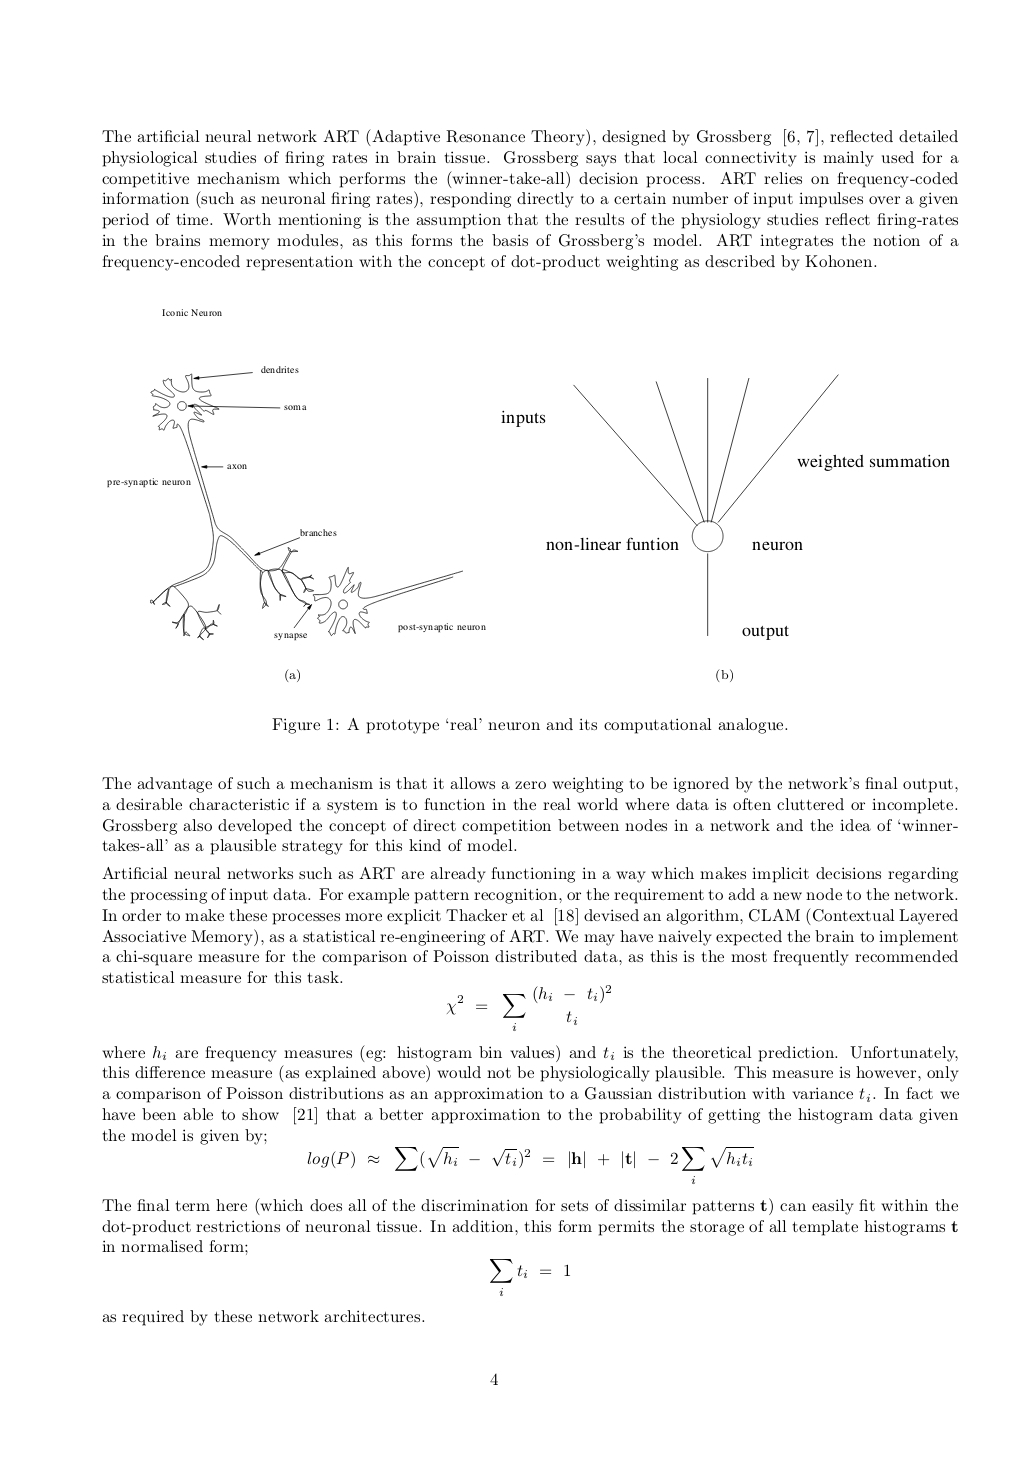figure: (501, 374, 950, 639), (107, 366, 485, 640)
formula: (307, 1147, 753, 1183), (446, 985, 610, 1030), (490, 1259, 570, 1295)
